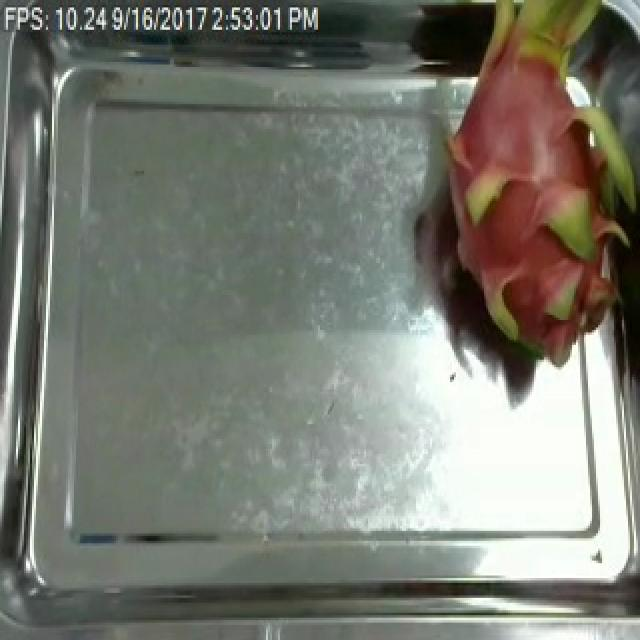fruit: (412, 0, 640, 399)
